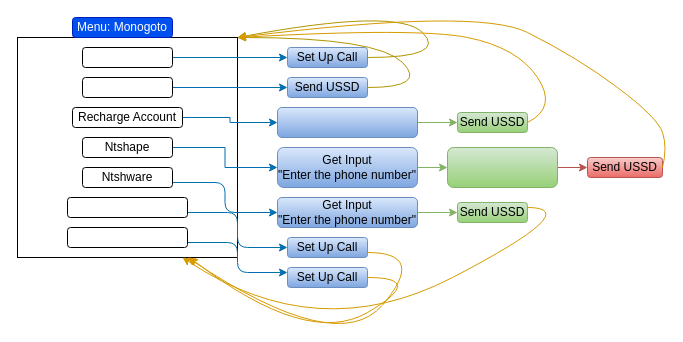
This 683x342 diagram has some shape labels left out. Here are the shapes that lost their labels. From the top down, the box of each, then its label:
(82, 46, 172, 68): Call center
(82, 76, 172, 98): Balance enquiry
(276, 106, 418, 138): Get Input "Enter your recharge pin"
(446, 146, 558, 188): Get Input "Enter the amount"
(66, 196, 188, 218): Direct vmail retrieval
(66, 226, 188, 248): Indirect vmail retrieval
